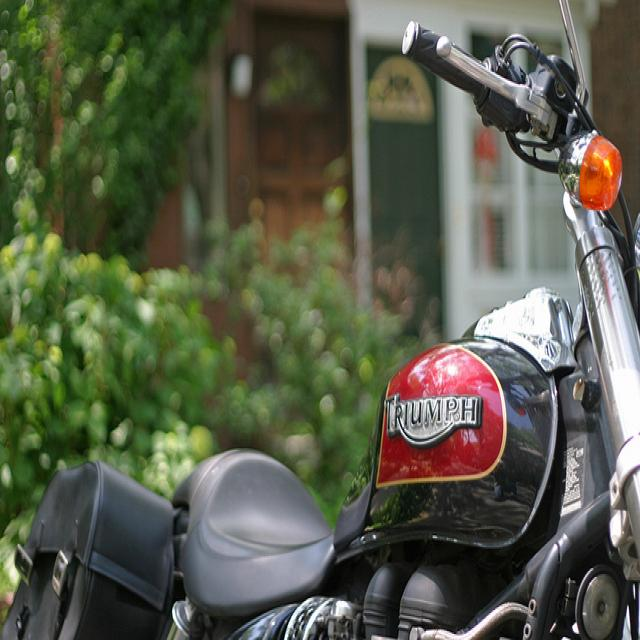motor: (0, 1, 640, 631)
